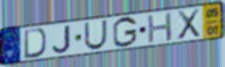D: (23, 27, 48, 60)
G: (111, 16, 138, 49)
H: (146, 11, 174, 45)
J: (52, 24, 73, 54)
U: (83, 19, 109, 51)
X: (176, 8, 202, 42)
